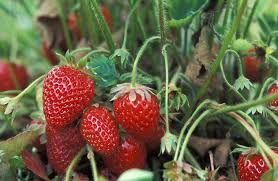ripe: (41, 60, 94, 127), (114, 84, 170, 144), (40, 115, 88, 176), (82, 99, 121, 160), (102, 136, 151, 177), (233, 143, 273, 179), (1, 58, 29, 99), (240, 45, 264, 87)
